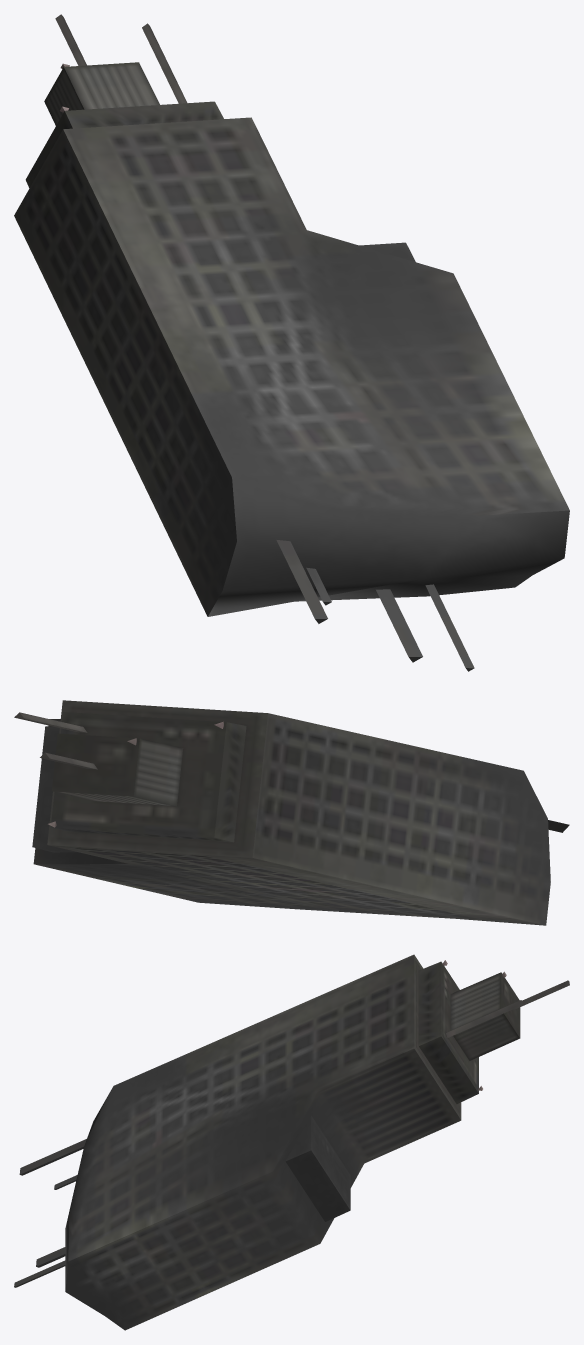
The model's file is skyBuildingAAB_pos_grp (3).fbx.
3 renders of one model, top to bottom at view 1: azimuth 30°, elevation 25°; view 2: azimuth 150°, elevation 25°; view 3: azimuth 270°, elevation 25°, orthographic. The views are drawn at different scales.
Visible parts, largest first — view 1: skyBuildingAAB_geo; view 2: skyBuildingAAB_geo; view 3: skyBuildingAAB_geo.
Part boxes in pixels (left/top/right/bottom): skyBuildingAAB_geo: left=14, top=14, right=569, bottom=671; skyBuildingAAB_geo: left=14, top=700, right=569, bottom=925; skyBuildingAAB_geo: left=14, top=954, right=569, bottom=1330.
Bounding box in the file's own units: 5.62 × 6.05 × 10.35.
